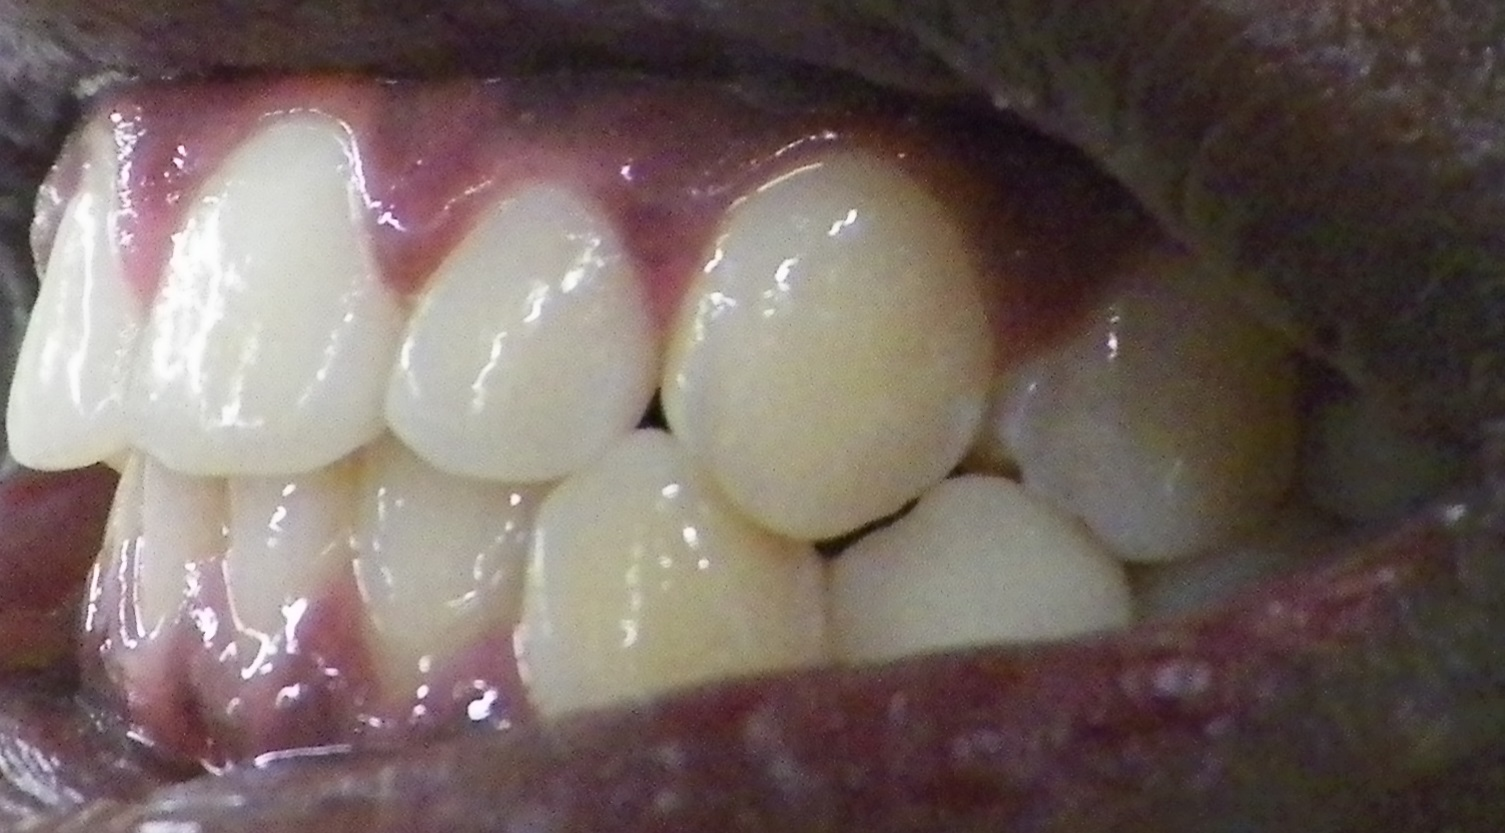boca: (12, 120, 1350, 708)
